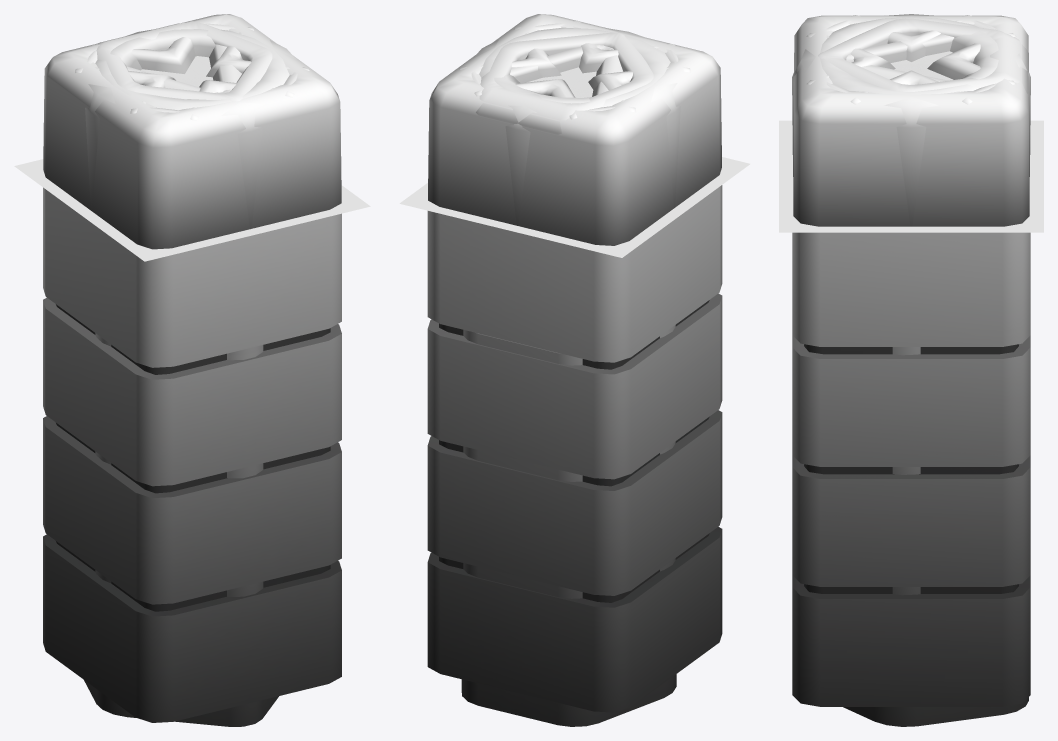
File: Block Set.fbx
3 views of the same model, side by side, from view 1: azimuth 30°, elevation 25°; view 2: azimuth 150°, elevation 25°; view 3: azimuth 270°, elevation 25° (orthographic). The views are drawn at different scales.
Visible parts, largest first — view 1: CubeGrid_x4, CubeGrid_x2, CubeRound, CubeGrid_x1, CubeGrid_x3, CylinderRound, CrossRound, PentagonRound, PentagonGrid_x4, PentagonGrid_x1, TriangleGrid_x1, TriangleRound (+3 smaller); view 2: CubeGrid_x3, CubeGrid_x4, CubeGrid_x2, CubeRound, CubeGrid_x1, PentagonRound, CylinderRound, PentagonGrid_x4, CrossRound, PentagonGrid_x2, PentagonGrid_x3, TriangleRound (+1 smaller); view 3: CubeGrid_x3, CubeGrid_x2, CubeGrid_x4, CubeRound, CubeGrid_x1, CylinderRound, PentagonRound, CrossRound, PentagonGrid_x4, PentagonGrid_x2, PentagonGrid_x1, TriangleRound (+3 smaller).
Part boxes in pixels (x1=…): CubeGrid_x4: x1=43, y1=338, x2=341, y2=722; CubeGrid_x2: x1=43, y1=187, x2=341, y2=486; CubeRound: x1=43, y1=14, x2=341, y2=249; CubeGrid_x1: x1=37, y1=177, x2=341, y2=367; CubeGrid_x3: x1=43, y1=214, x2=341, y2=604; CylinderRound: x1=85, y1=29, x2=296, y2=229; CrossRound: x1=75, y1=20, x2=309, y2=120; PentagonRound: x1=96, y1=22, x2=272, y2=101; PentagonGrid_x4: x1=23, y1=170, x2=278, y2=726; PentagonGrid_x1: x1=14, y1=159, x2=370, y2=261; TriangleGrid_x1: x1=18, y1=159, x2=368, y2=259; TriangleRound: x1=126, y1=44, x2=241, y2=93; CubeGrid_x3: x1=427, y1=305, x2=722, y2=595; CubeGrid_x4: x1=427, y1=335, x2=722, y2=712; CubeGrid_x2: x1=427, y1=185, x2=722, y2=479; CubeRound: x1=428, y1=14, x2=721, y2=245; CubeGrid_x1: x1=399, y1=157, x2=749, y2=362; PentagonRound: x1=476, y1=32, x2=653, y2=134; CylinderRound: x1=472, y1=27, x2=680, y2=225; PentagonGrid_x4: x1=404, y1=184, x2=676, y2=726; CrossRound: x1=459, y1=20, x2=690, y2=119; PentagonGrid_x2: x1=401, y1=162, x2=733, y2=481; PentagonGrid_x3: x1=406, y1=162, x2=737, y2=598; TriangleRound: x1=510, y1=45, x2=622, y2=96; CubeGrid_x3: x1=792, y1=233, x2=1030, y2=586; CubeGrid_x2: x1=792, y1=232, x2=1030, y2=466; CubeGrid_x4: x1=792, y1=349, x2=1030, y2=706; CubeRound: x1=793, y1=15, x2=1029, y2=226; CubeGrid_x1: x1=779, y1=122, x2=1043, y2=346; CylinderRound: x1=792, y1=14, x2=1030, y2=226; PentagonRound: x1=818, y1=18, x2=1028, y2=93; CrossRound: x1=806, y1=15, x2=1016, y2=104; PentagonGrid_x4: x1=779, y1=120, x2=1040, y2=726; PentagonGrid_x2: x1=779, y1=120, x2=1043, y2=474; PentagonGrid_x1: x1=779, y1=120, x2=1043, y2=232; TriangleRound: x1=846, y1=34, x2=954, y2=81.
Bounding box in the file's own units: 1 × 2.61 × 1.
